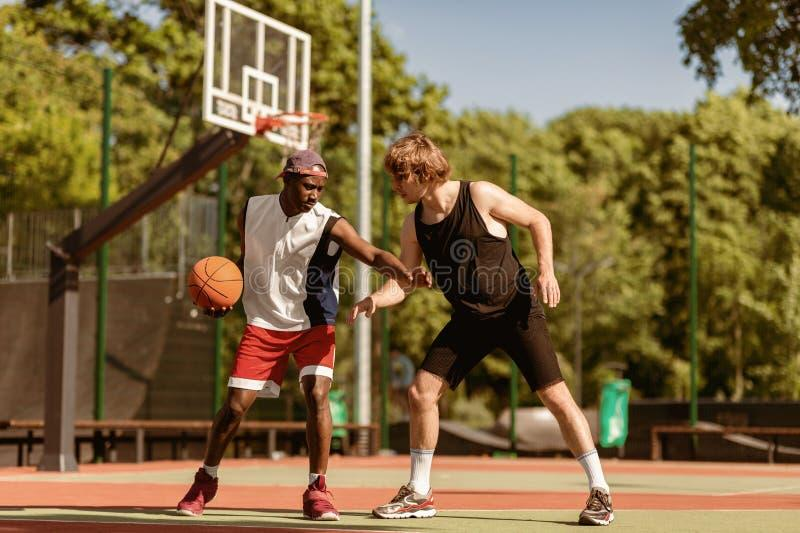basketball: (187, 256, 242, 311)
